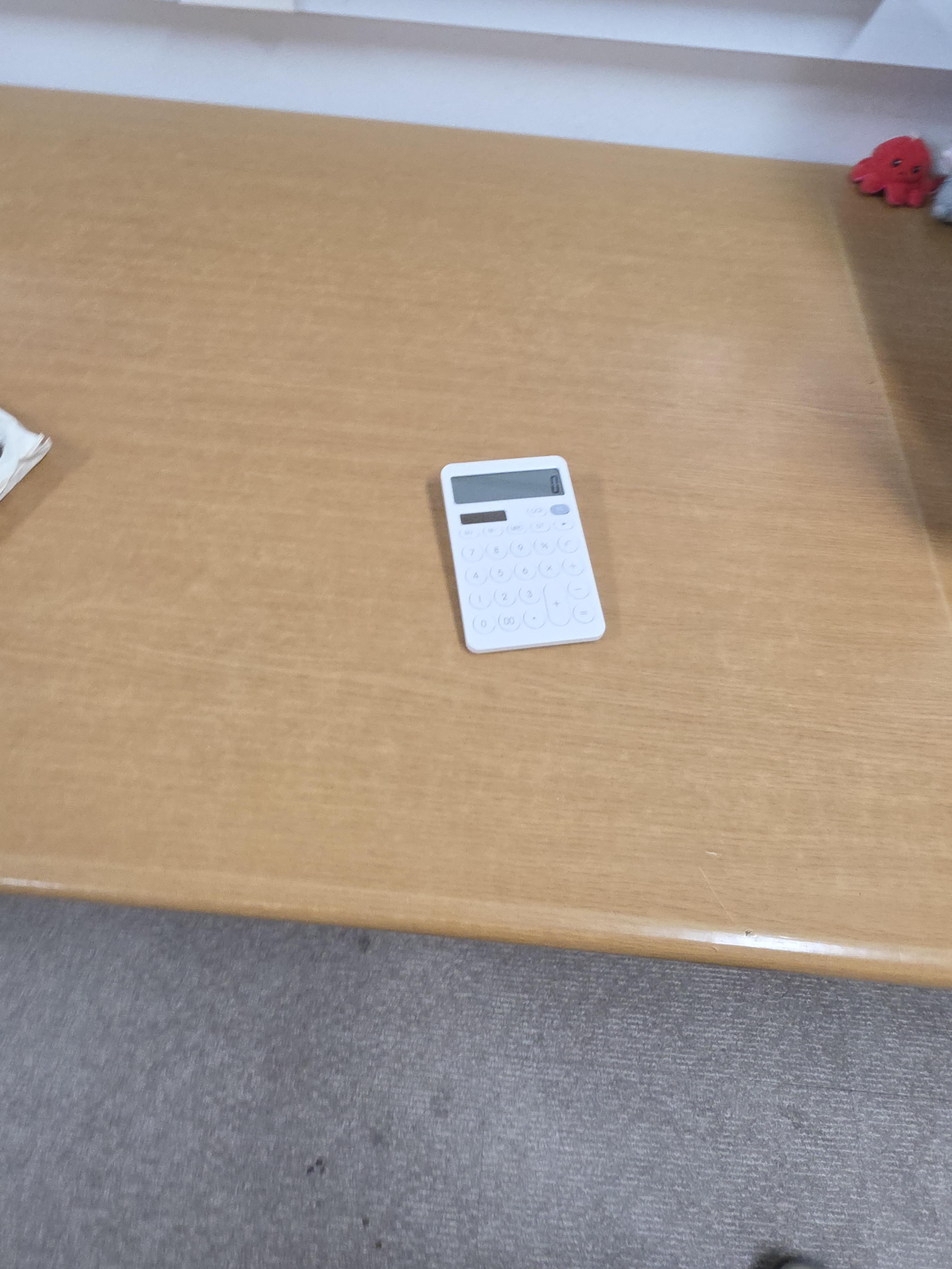calculator: (440, 456, 606, 654)
tissue: (0, 408, 52, 502)
